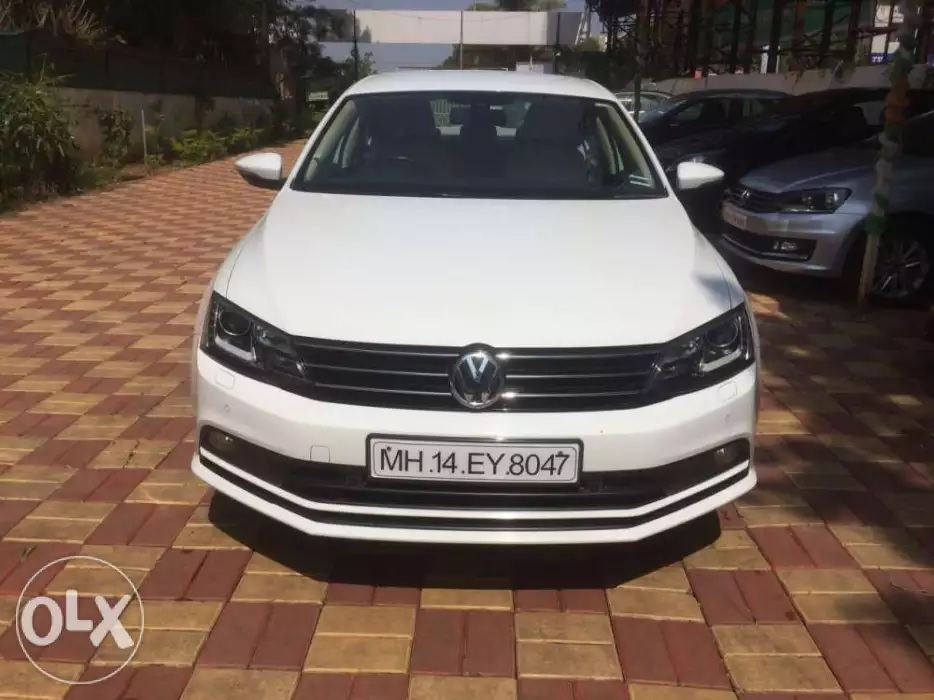licenseplate: (360, 430, 588, 489)
